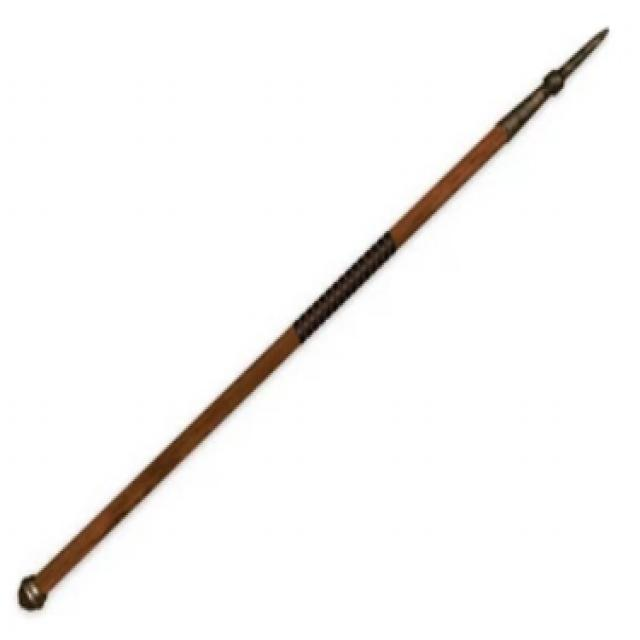spear: (13, 11, 616, 628)
